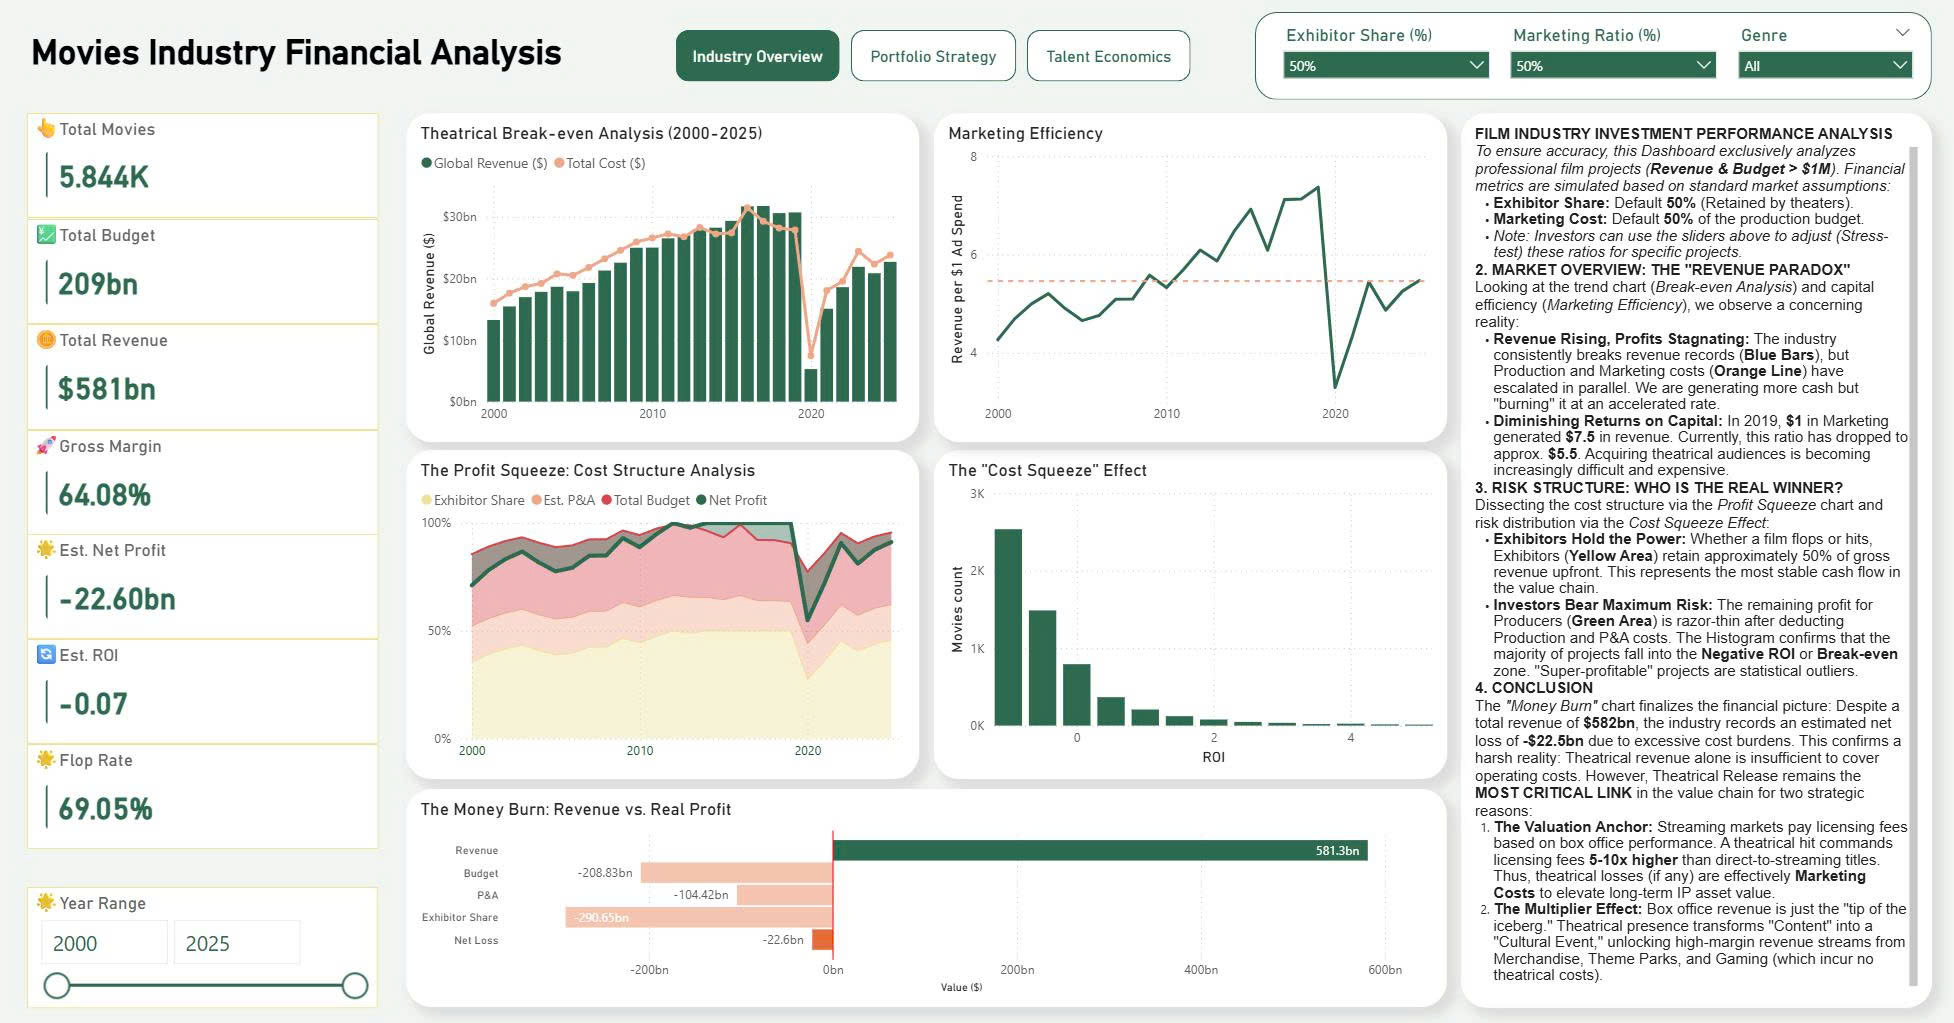

Layout of this report page (visuals, bound fields, positions):
{"tool":"powerbi","page":{"name":"Page 1","canvas":[1900,1000],"ordinal":0},"visuals":[{"type":"shape","box":[1220,12.7,658.2,85.5],"z":0},{"type":"cardVisual","title":"🪙Total Revenue","fields":{"Data":["Sum(Fact_Financials.revenue)"]},"box":[25.9,315.8,341.7,102.9],"z":1000},{"type":"cardVisual","title":"💹Total Budget","fields":{"Data":["Sum(Fact_Financials.budget)"]},"box":[25.9,213.8,341.7,102],"z":2000},{"type":"lineClusteredColumnComboChart","title":"Theatrical Break-even Analysis (2000-2025)","fields":{"Y":["Sum(Fact_Financials.revenue)"],"Category":["Dim_Movies.year"],"Y2":["Fact_Financials.Total_Real_Cost"]},"box":[395,111,499,320],"z":3000},{"type":"textbox","box":[25.8,27.3,545.5,69.7],"z":4000},{"type":"textbox","box":[1420.3,110.9,457.5,870],"z":5000},{"type":"cardVisual","title":"🌟Est. Net Profit","fields":{"Data":["Fact_Financials.Real_Net_Profit"]},"box":[25.9,520.6,341.7,102],"z":6000},{"type":"cardVisual","title":"🔄️Est. ROI","fields":{"Data":["Fact_Financials.Real_ROI"]},"box":[25.9,622.6,341.7,102],"z":7000},{"type":"shape","box":[657.6,30.3,159.1,50],"z":8000},{"type":"hundredPercentStackedAreaChart","title":"The Profit Squeeze: Cost Structure Analysis","fields":{"Category":["Dim_Movies.year"],"Y":["Fact_Financials.Exhibitor_Share","Fact_Financials.Est_Marketing_Cost","Sum(Fact_Financials.budget)","Fact_Financials.Real_Net_Profit"]},"box":[395,439,499,320],"z":9000},{"type":"slicer","fields":{"Values":["Ty_Le_Marketing.Ty_Le_Marketing"]},"box":[1459,19,221,92],"z":10000},{"type":"shape","box":[827.3,30.3,160.6,50],"z":11000},{"type":"slicer","fields":{"Values":["Ty_Le_Rap.Ty_Le_Rap"]},"box":[1238,19,221,108],"z":12000},{"type":"clusteredColumnChart","title":"The \"Cost Squeeze\" Effect","fields":{"Y":["ROI_Bins_Table.Count_Movies_Dynamic"],"Category":["ROI_Bins_Table.ROI_Range"]},"box":[908,439,499,320],"z":13000},{"type":"slicer","title":"🌟Year Range","fields":{"Values":["Dim_Movies.year"]},"box":[26,863.1,341.4,117.9],"z":14000},{"type":"lineChart","title":"Marketing Efficiency","fields":{"Category":["Dim_Movies.year"],"Y":["Fact_Financials.Revenue_Per_Mkt_Dollar"]},"box":[908,111,499,320],"z":15000},{"type":"slicer","fields":{"Values":["Dim_Genres.genre_name"]},"box":[1680,19,190,92],"z":16000},{"type":"clusteredBarChart","title":"The Money Burn: Revenue vs. Real Profit","fields":{"Category":["Bang_Waterfall.Category"],"Y":["Waterfall_Data.Waterfall_Values"]},"box":[395.1,768.6,1012.1,212.3],"z":17000},{"type":"cardVisual","title":"👆Total Movies ","fields":{"Data":["Count(Dim_Movies.movie_id)"]},"box":[25.9,110.9,341.7,102],"z":18000},{"type":"cardVisual","title":"🌟Flop Rate","fields":{"Data":["Fact_Financials.Flop Rate %"]},"box":[25.9,724.6,341.7,102],"z":19000},{"type":"cardVisual","title":"🚀Gross Margin","fields":{"Data":["Fact_Financials.Gross Margin %"]},"box":[25.9,418.6,341.7,102],"z":20000},{"type":"shape","box":[998.5,30.3,159.1,50],"z":21000}]}

Visuals, with their boxes in screenshot pixels (x1, y1, x2, y2), scaled from the page's 1900x1000 canvas onto the 1954x1023 screenshot:
shape: bbox=(1255, 13, 1932, 100)
"🪙Total Revenue" cardVisual: bbox=(27, 323, 378, 428)
"💹Total Budget" cardVisual: bbox=(27, 219, 378, 323)
"Theatrical Break-even Analysis (2000-2025)" lineClusteredColumnComboChart: bbox=(406, 114, 919, 441)
textbox: bbox=(27, 28, 588, 99)
textbox: bbox=(1461, 113, 1931, 1003)
"🌟Est. Net Profit" cardVisual: bbox=(27, 533, 378, 637)
"🔄️Est. ROI" cardVisual: bbox=(27, 637, 378, 741)
shape: bbox=(676, 31, 840, 82)
"The Profit Squeeze: Cost Structure Analysis" hundredPercentStackedAreaChart: bbox=(406, 449, 919, 776)
slicer - Ty_Le_Marketing.Ty_Le_Marketing: bbox=(1500, 19, 1728, 114)
shape: bbox=(851, 31, 1016, 82)
slicer - Ty_Le_Rap.Ty_Le_Rap: bbox=(1273, 19, 1500, 130)
"The "Cost Squeeze" Effect" clusteredColumnChart: bbox=(934, 449, 1447, 776)
"🌟Year Range" slicer: bbox=(27, 883, 378, 1004)
"Marketing Efficiency" lineChart: bbox=(934, 114, 1447, 441)
slicer - Dim_Genres.genre_name: bbox=(1728, 19, 1923, 114)
"The Money Burn: Revenue vs. Real Profit" clusteredBarChart: bbox=(406, 786, 1447, 1003)
"👆Total Movies " cardVisual: bbox=(27, 113, 378, 218)
"🌟Flop Rate" cardVisual: bbox=(27, 741, 378, 846)
"🚀Gross Margin" cardVisual: bbox=(27, 428, 378, 533)
shape: bbox=(1027, 31, 1191, 82)
